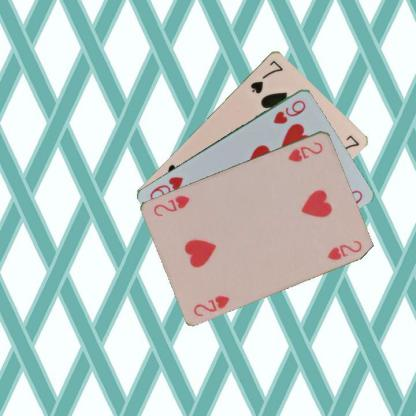2h: (191, 292, 231, 317), (285, 139, 324, 163)
7s: (248, 57, 284, 95)
9h: (270, 97, 308, 125)
